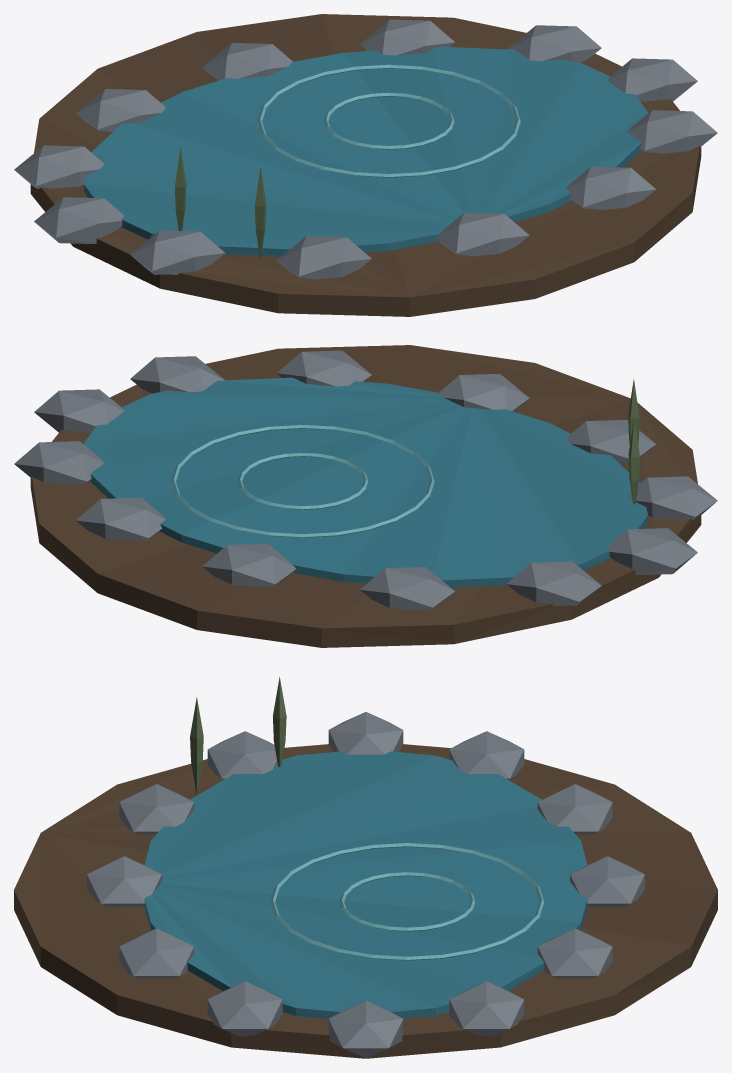
Rendered from water_pond_small.glb.
3 views of the same model, one above another, from view 1: azimuth 30°, elevation 25°; view 2: azimuth 150°, elevation 25°; view 3: azimuth 270°, elevation 25° (orthographic). The views are drawn at different scales.
Parts seen in each view (by area): view 1: body, ripple_1, ripple_0; view 2: body, ripple_1, ripple_0; view 3: body, ripple_1, ripple_0.
Part boxes in pixels (x1,y1,x2,y2): body: (14,14,717,316); ripple_1: (257,64,520,177); ripple_0: (324,92,454,149); body: (14,345,717,647); ripple_1: (171,425,434,537); ripple_0: (237,453,368,509); body: (14,677,717,1058); ripple_1: (270,843,544,960); ripple_0: (339,872,475,931).
Size of the model in its own units: 2.24 by 0.3795 by 2.04.
